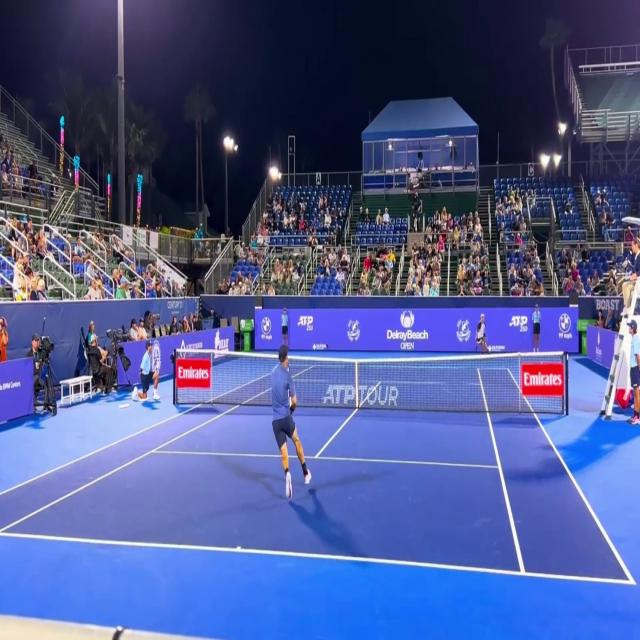tennisBall: (412, 281, 417, 289)
